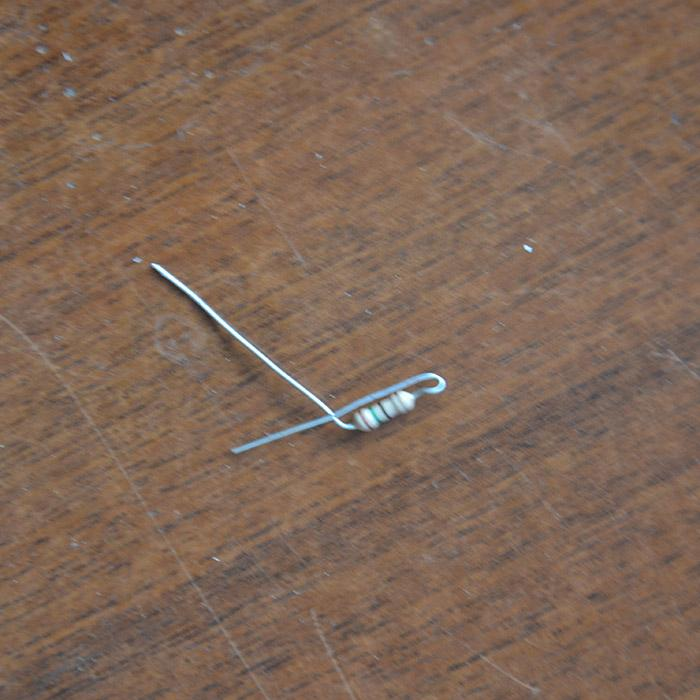resistor: (350, 390, 416, 431)
